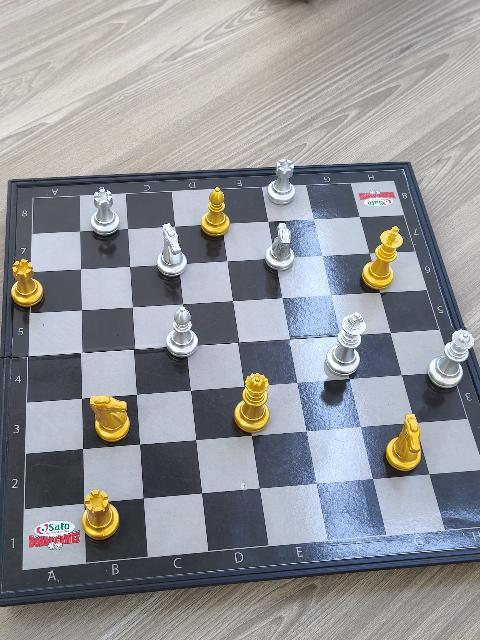black_bishop: (200, 187, 231, 236)
black_king: (362, 227, 402, 291)
black_knight: (384, 414, 424, 475), (88, 394, 132, 446)
black_queen: (233, 372, 271, 437)
black_rook: (81, 490, 120, 544), (11, 259, 44, 311)
white_bishop: (165, 305, 199, 362)
white_king: (324, 312, 366, 380)
white_knight: (157, 222, 188, 281), (264, 221, 297, 273)
white_queen: (428, 328, 476, 391)
white_rook: (90, 187, 121, 239), (266, 158, 297, 207)
